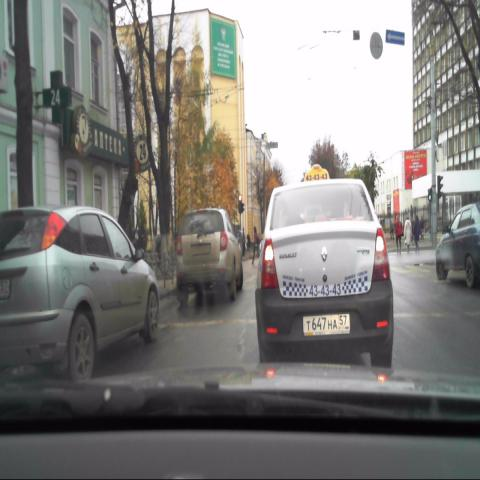5_7_2: (386, 31, 406, 45)
